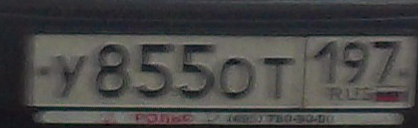character: (134, 39, 176, 100), (93, 39, 133, 101), (178, 39, 216, 100), (51, 52, 88, 104), (259, 55, 298, 103), (219, 54, 256, 101), (373, 36, 404, 83), (314, 39, 340, 87), (343, 40, 369, 84)
